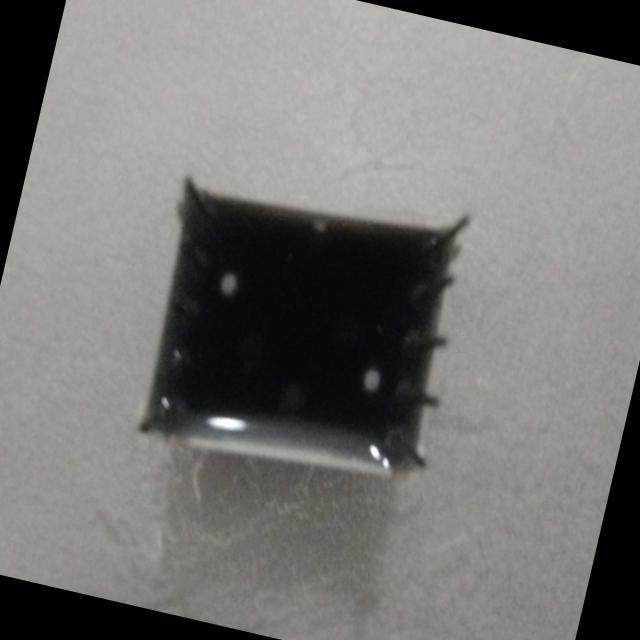7_segments: (103, 137, 495, 513)
